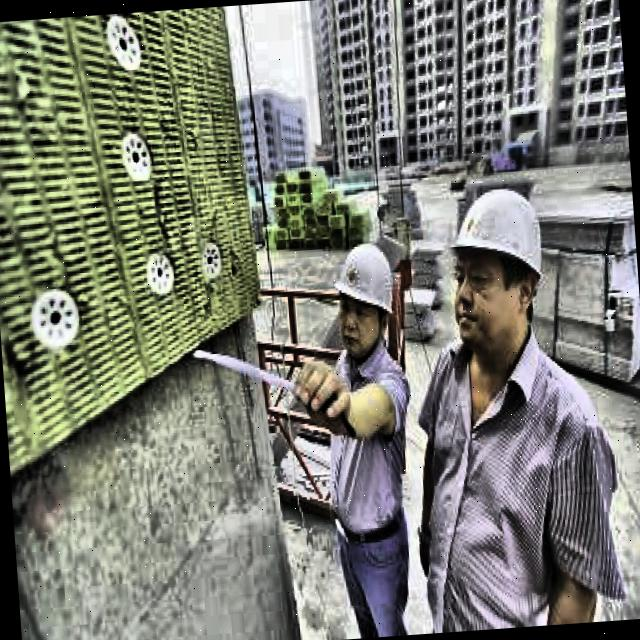helmet: (432, 164, 564, 376), (330, 234, 400, 360)
